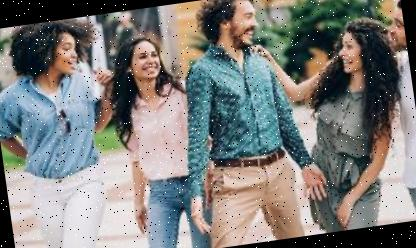person: (170, 0, 313, 248), (270, 8, 416, 236), (0, 13, 139, 248), (99, 21, 226, 248)
